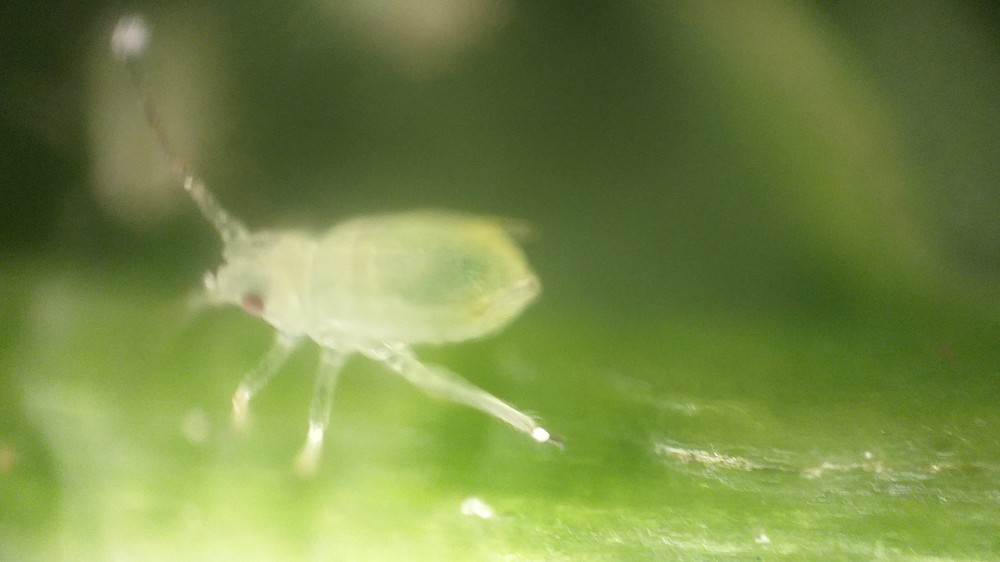Pulgon: (123, 58, 607, 506)
